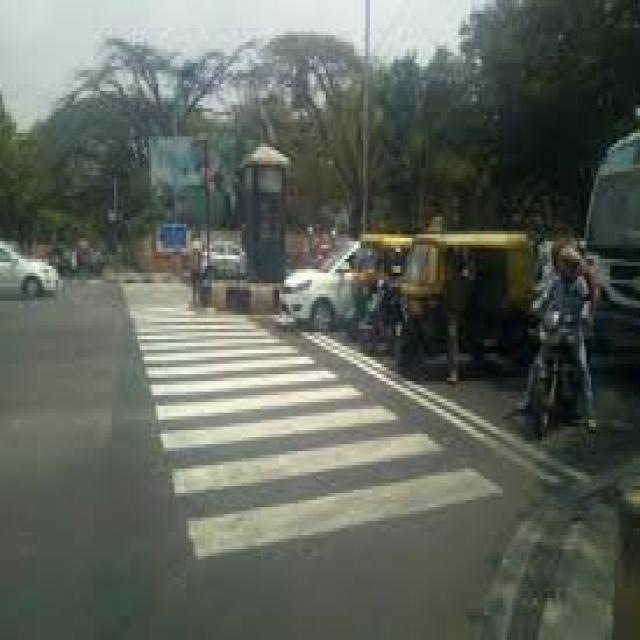zebra crossing ahead at: (134, 310, 508, 572)
